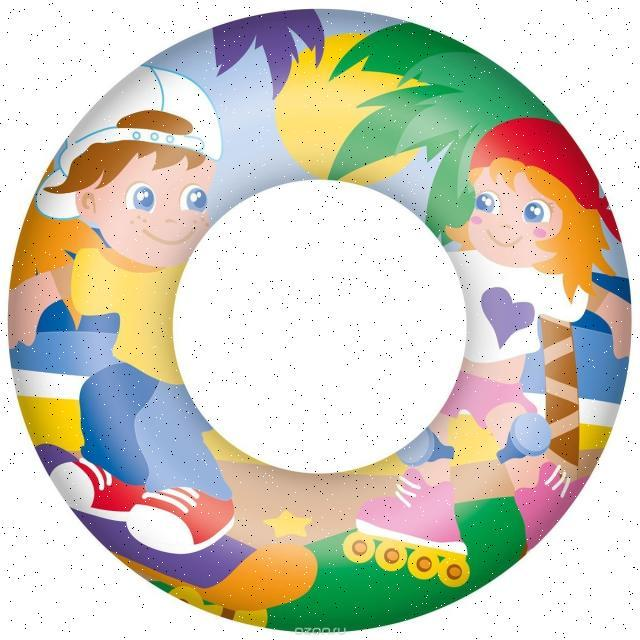Circle: (6, 9, 633, 631), (514, 412, 552, 452), (342, 531, 376, 563), (438, 556, 470, 588), (375, 540, 408, 571), (408, 550, 440, 580), (416, 556, 432, 573), (446, 564, 462, 580), (352, 540, 367, 556), (384, 548, 399, 564), (150, 132, 159, 141), (166, 134, 174, 144), (132, 131, 140, 140)
